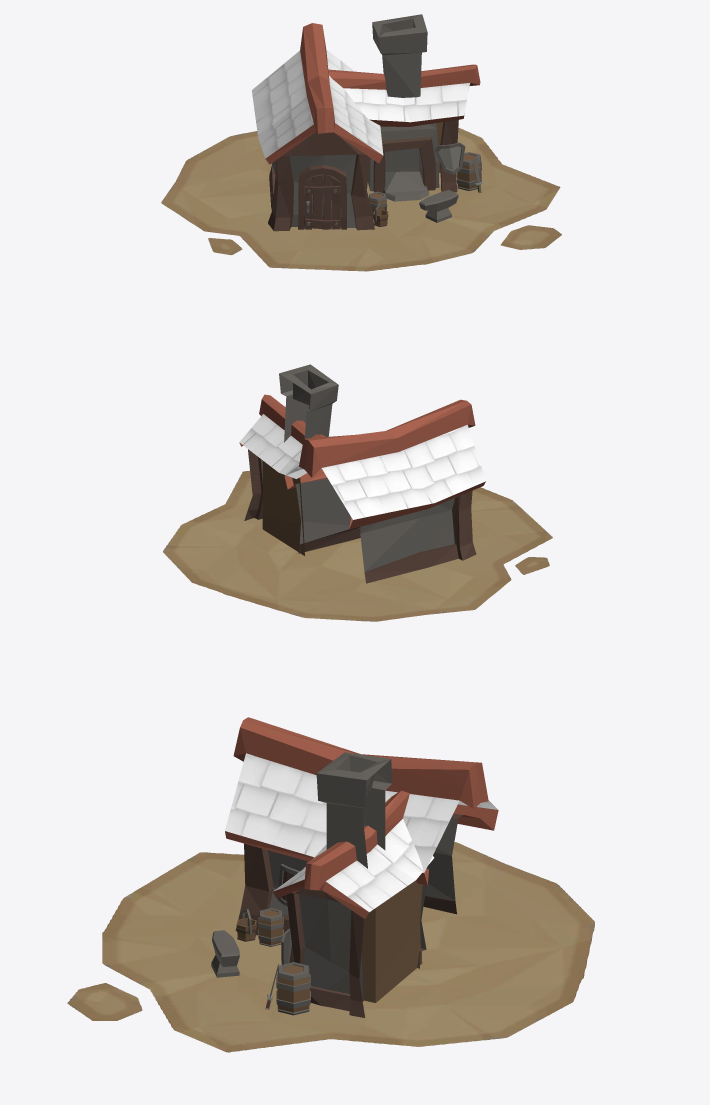
The picture shows the model from 3 angles, top to bottom: view 1: azimuth 30°, elevation 25°; view 2: azimuth 150°, elevation 25°; view 3: azimuth 270°, elevation 25°; orthographic projection. The views are drawn at different scales.
Parts seen in each view (by area): view 1: utilityMarvensforge, groundDecal; view 2: utilityMarvensforge, groundDecal; view 3: groundDecal, utilityMarvensforge.
Part boxes in pixels (bbox=[...]): utilityMarvensforge: bbox=[251, 14, 482, 231]; groundDecal: bbox=[161, 127, 561, 271]; utilityMarvensforge: bbox=[239, 364, 485, 583]; groundDecal: bbox=[163, 470, 552, 621]; groundDecal: bbox=[67, 842, 594, 1052]; utilityMarvensforge: bbox=[211, 717, 498, 1017].
Bounding box in the file's own units: 4 × 1.42 × 4.
3 materials, 3 textured.
